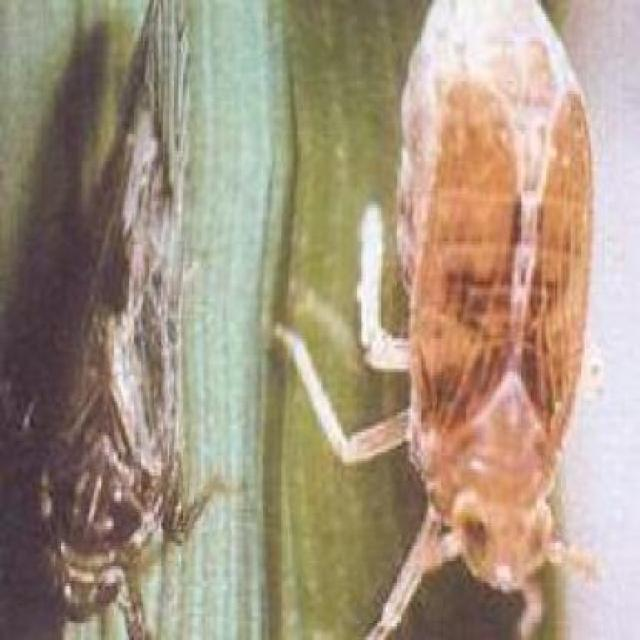brown-planthopper: (395, 1, 596, 604), (15, 12, 199, 622)
